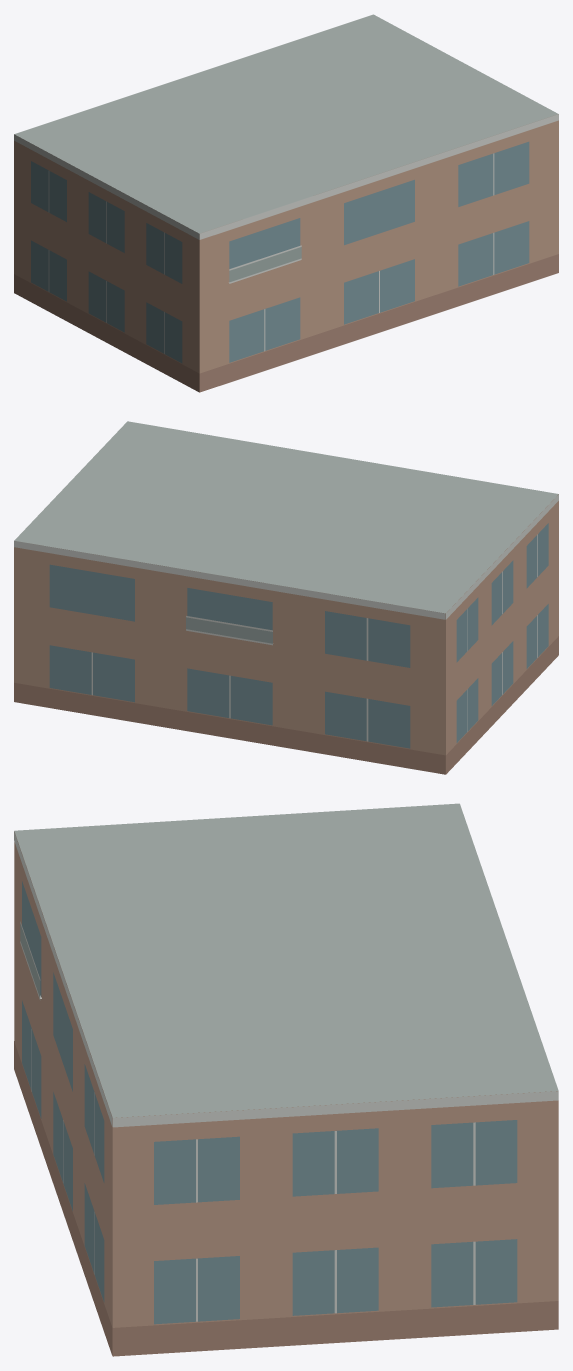
The model's file is survey-upis-32803341.glb.
3 views of the same model, one above another, from view 1: azimuth 30°, elevation 25°; view 2: azimuth 150°, elevation 25°; view 3: azimuth 270°, elevation 25° (orthographic). The views are drawn at different scales.
Visible parts, largest first — view 1: survey-upis-32803341.tmp; view 2: survey-upis-32803341.tmp; view 3: survey-upis-32803341.tmp.
Part boxes in pixels (x1=…): survey-upis-32803341.tmp: x1=14, y1=14, x2=558, y2=392; survey-upis-32803341.tmp: x1=14, y1=421, x2=558, y2=774; survey-upis-32803341.tmp: x1=14, y1=803, x2=558, y2=1356.
Bounding box in the file's own units: 17.26 × 6.1 × 12.64.
